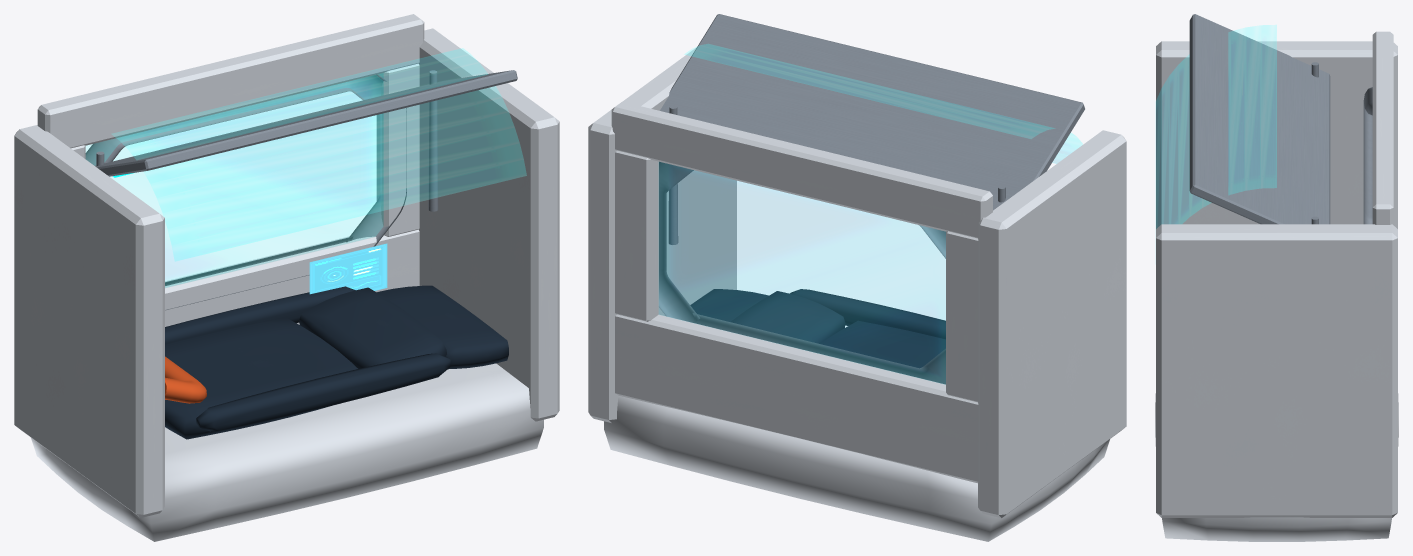
File: bunk_r2_04.glb
3 views of the same model, side by side, from view 1: azimuth 30°, elevation 25°; view 2: azimuth 150°, elevation 25°; view 3: azimuth 270°, elevation 25° (orthographic). The views are drawn at different scales.
Visible parts, largest first — view 1: CockpitPod_AerospaceMonocoqueTub, CockpitPod_GullwingHoloCanopyGlass, CockpitPod_OrbitalNavyZeroGCouch, CockpitPod_RearTranslucentViewport, CockpitPod_GullwingFrameAndStruts, CockpitPod_InternalOLEDHUD, CockpitPod_SignalOrangeCradle; view 2: CockpitPod_AerospaceMonocoqueTub, CockpitPod_GullwingFrameAndStruts, CockpitPod_RearTranslucentViewport, CockpitPod_OrbitalNavyZeroGCouch, CockpitPod_GullwingHoloCanopyGlass; view 3: CockpitPod_AerospaceMonocoqueTub, CockpitPod_GullwingFrameAndStruts, CockpitPod_GullwingHoloCanopyGlass.
Part boxes in pixels (box(x1,y1,x2,y2)): CockpitPod_AerospaceMonocoqueTub: box(14, 14, 559, 541); CockpitPod_GullwingHoloCanopyGlass: box(112, 48, 526, 261); CockpitPod_OrbitalNavyZeroGCouch: box(165, 285, 508, 439); CockpitPod_RearTranslucentViewport: box(86, 74, 382, 287); CockpitPod_GullwingFrameAndStruts: box(85, 70, 517, 310); CockpitPod_InternalOLEDHUD: box(309, 243, 387, 294); CockpitPod_SignalOrangeCradle: box(165, 356, 206, 403); CockpitPod_AerospaceMonocoqueTub: box(588, 47, 1126, 541); CockpitPod_GullwingFrameAndStruts: box(659, 14, 1084, 384); CockpitPod_RearTranslucentViewport: box(659, 162, 945, 384); CockpitPod_OrbitalNavyZeroGCouch: box(690, 289, 945, 368); CockpitPod_GullwingHoloCanopyGlass: box(684, 44, 1082, 163); CockpitPod_AerospaceMonocoqueTub: box(1155, 31, 1398, 541); CockpitPod_GullwingFrameAndStruts: box(1189, 14, 1372, 224); CockpitPod_GullwingHoloCanopyGlass: box(1156, 25, 1276, 228).
Bounding box in the file's own units: 2.19 × 1.84 × 1.15.
Materials: 8 (8 with a texture image).
